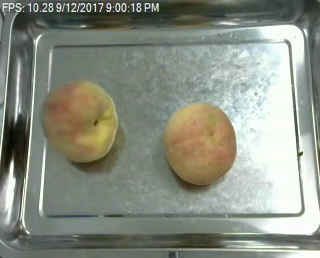Peach: (42, 78, 118, 163), (164, 101, 237, 185)
